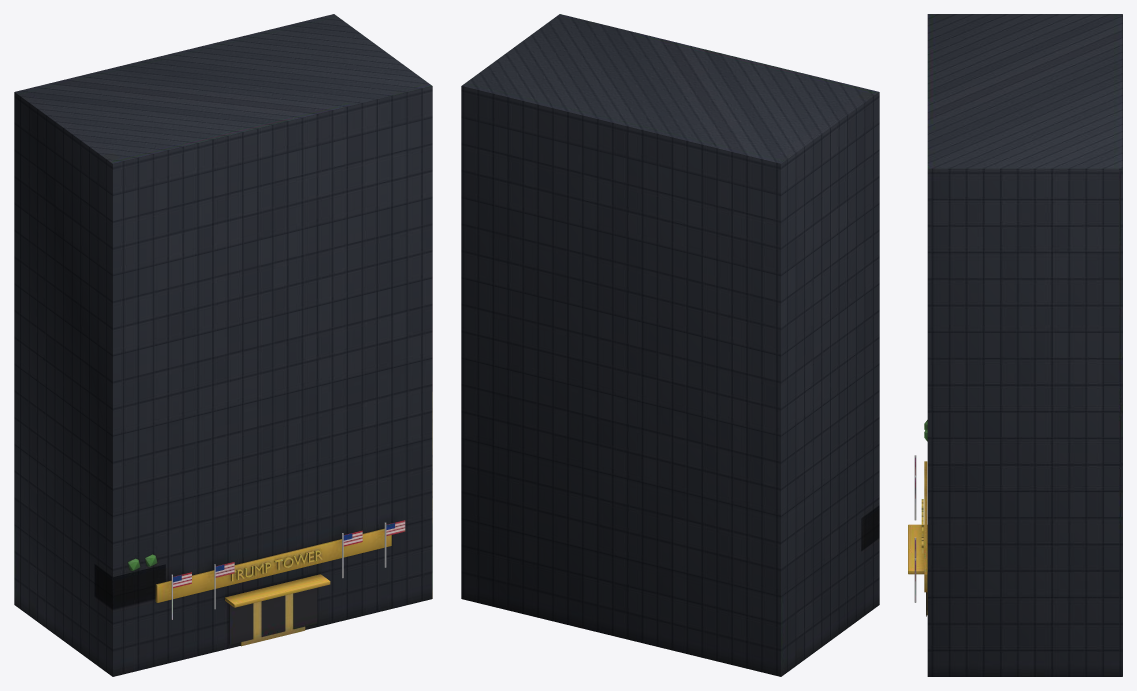
The model's file is torre_trump.glb.
3 views of the same model, side by side, from view 1: azimuth 30°, elevation 25°; view 2: azimuth 150°, elevation 25°; view 3: azimuth 270°, elevation 25° (orthographic).
Parts seen in each view (by area): view 1: torre_trump; view 2: torre_trump; view 3: torre_trump.
Part boxes in pixels (x1,y1,x2,y2): torre_trump: (14, 14, 432, 676); torre_trump: (461, 14, 879, 676); torre_trump: (908, 14, 1122, 676).
Size of the model in its own units: 30 by 46 by 17.6.
Materials: 1 (1 with a texture image).
